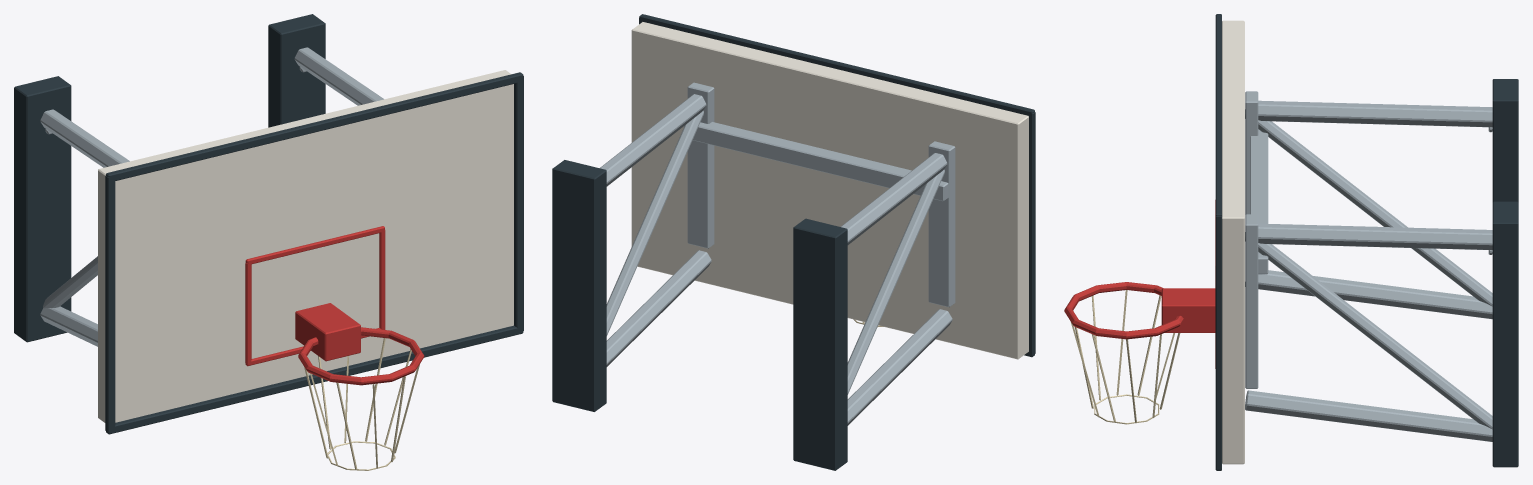
The model's file is b09_wall_mount_basketball_goal.glb.
3 renders of one model, left to right at view 1: azimuth 30°, elevation 25°; view 2: azimuth 150°, elevation 25°; view 3: azimuth 270°, elevation 25°, orthographic. The views are drawn at different scales.
Parts seen in each view (by area): view 1: b09_wall_mount_basketball_goal; view 2: b09_wall_mount_basketball_goal; view 3: b09_wall_mount_basketball_goal.
Boxes of the visible parts, left/top/right/bottom form: b09_wall_mount_basketball_goal: left=14, top=14, right=523, bottom=470; b09_wall_mount_basketball_goal: left=552, top=14, right=1035, bottom=470; b09_wall_mount_basketball_goal: left=1064, top=14, right=1518, bottom=470.
Size of the model in its own units: 1.83 by 1.26 by 1.75.
